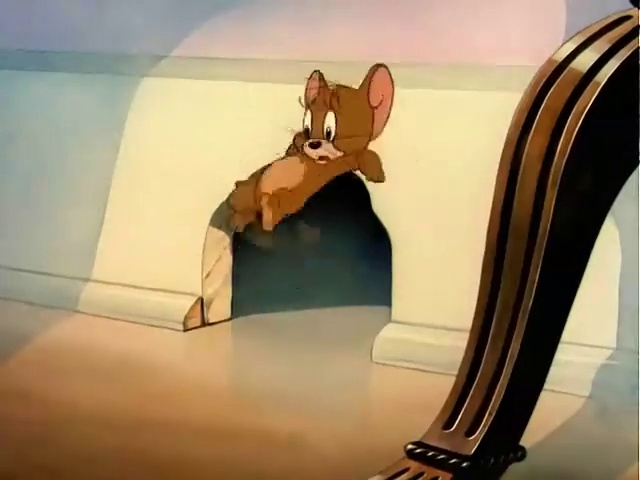jerry: (193, 60, 431, 256)
